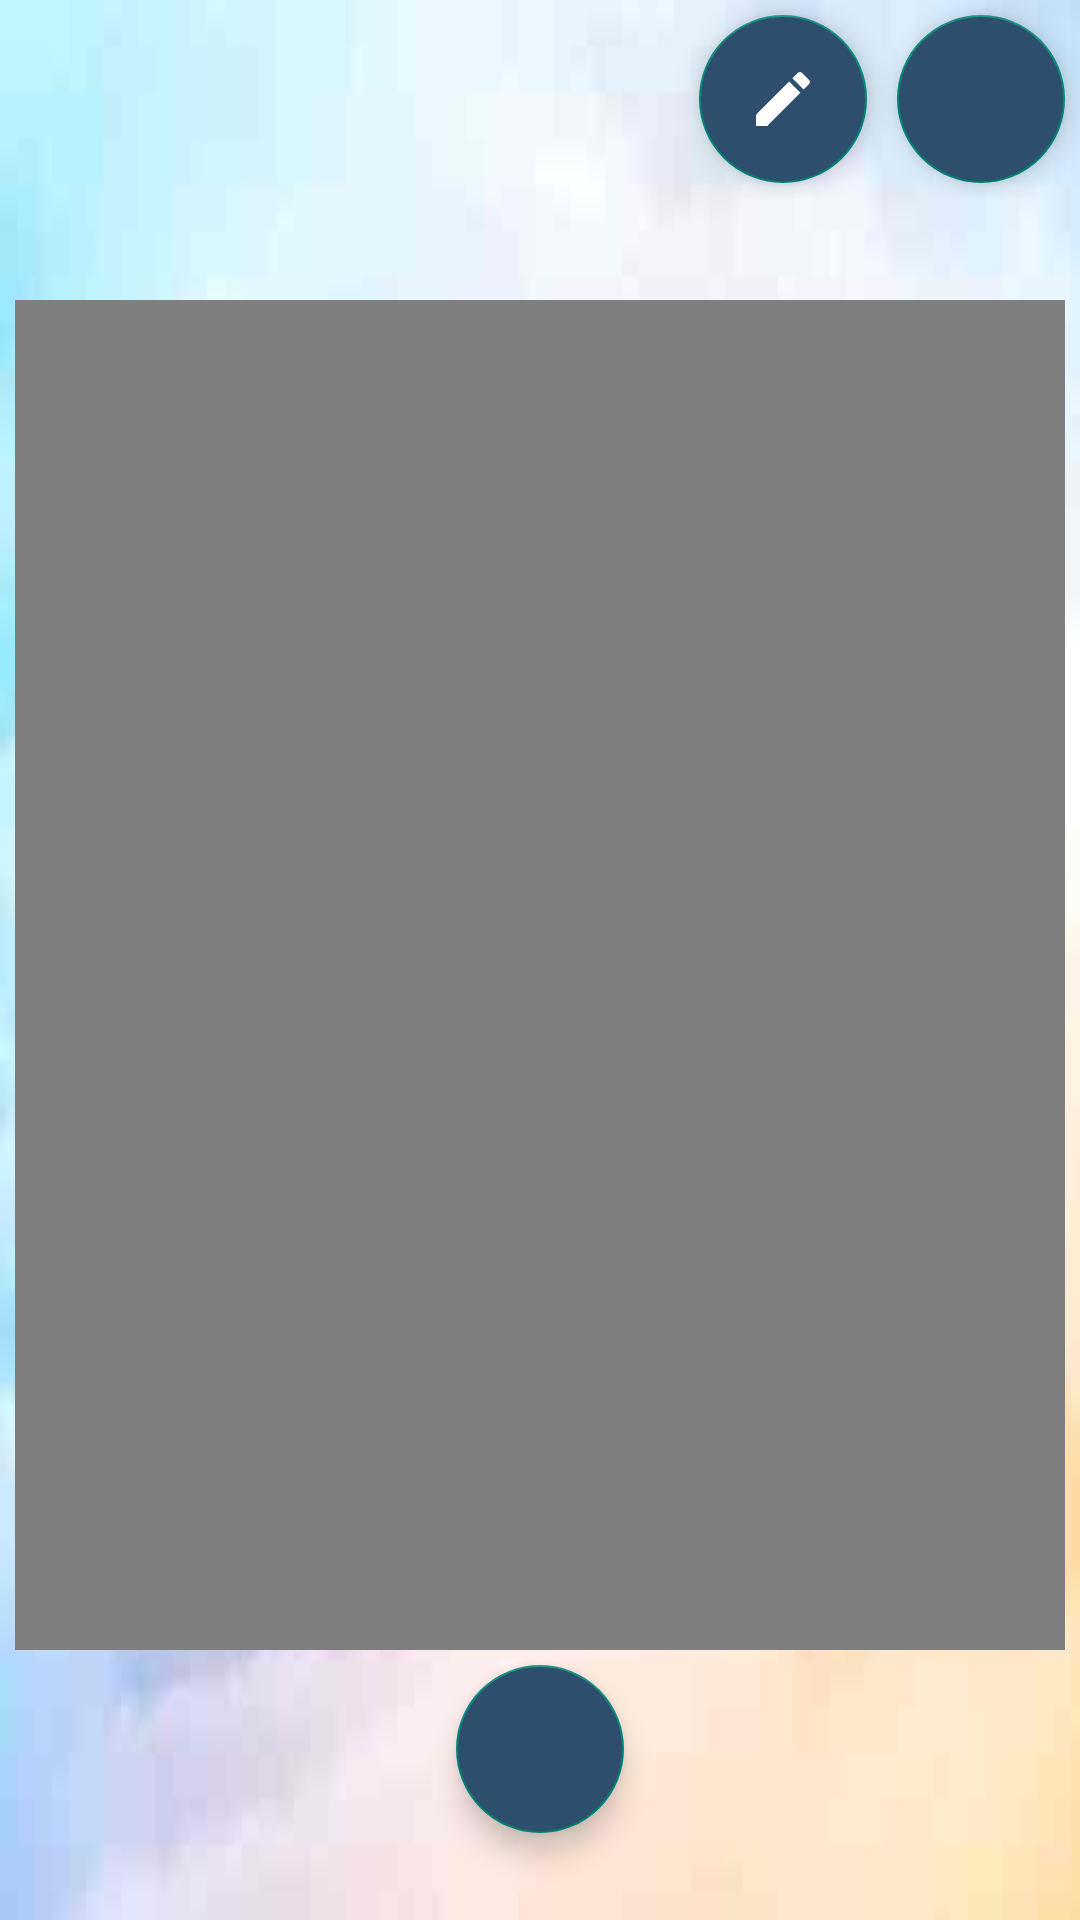

Where icons sit on this 1080px×1920px app screen, as (x1, y1, x2, y2):
edit: (699, 15, 867, 183)
